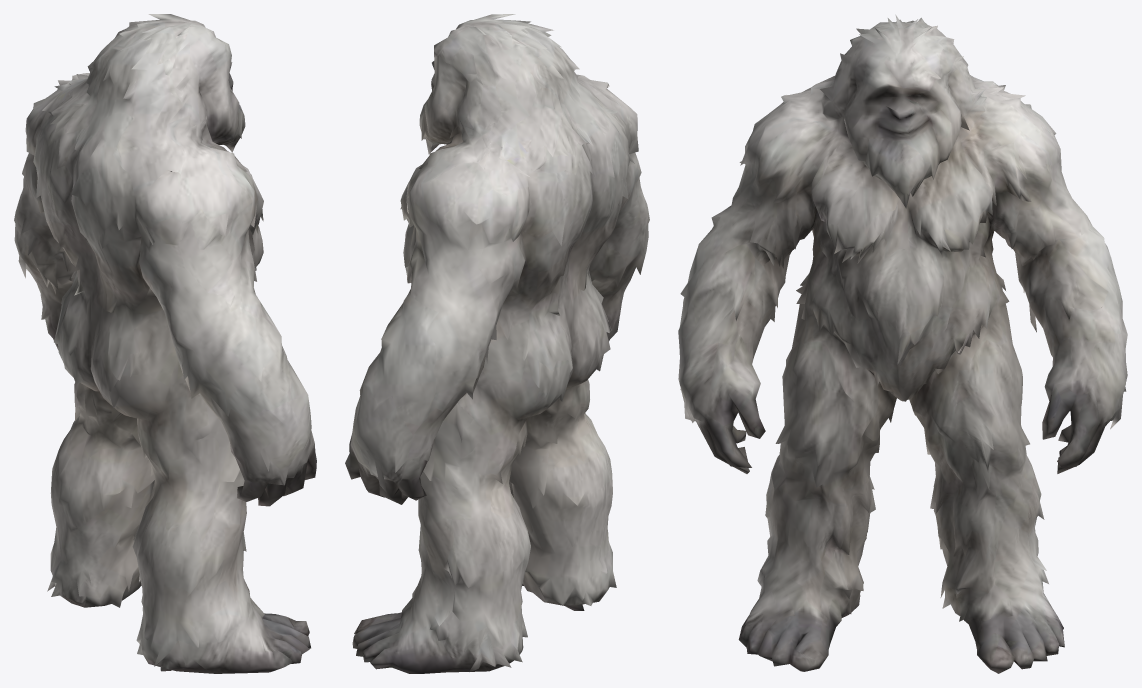
Rendered from yeti.glb.
The picture shows the model from 3 angles, left to right: view 1: azimuth 30°, elevation 25°; view 2: azimuth 150°, elevation 25°; view 3: azimuth 270°, elevation 25°; orthographic projection.
Parts seen in each view (by area): view 1: tripo_node_a2a5dc9c-0d17-47fa-942e-257e86a10186; view 2: tripo_node_a2a5dc9c-0d17-47fa-942e-257e86a10186; view 3: tripo_node_a2a5dc9c-0d17-47fa-942e-257e86a10186.
Boxes of the visible parts, x1,y1,x2,y2 form: tripo_node_a2a5dc9c-0d17-47fa-942e-257e86a10186: [14, 14, 316, 673]; tripo_node_a2a5dc9c-0d17-47fa-942e-257e86a10186: [345, 14, 649, 673]; tripo_node_a2a5dc9c-0d17-47fa-942e-257e86a10186: [678, 14, 1127, 673].
Size of the model in its own units: 0.3441 by 1 by 0.6669.
1 material, 1 textured.
